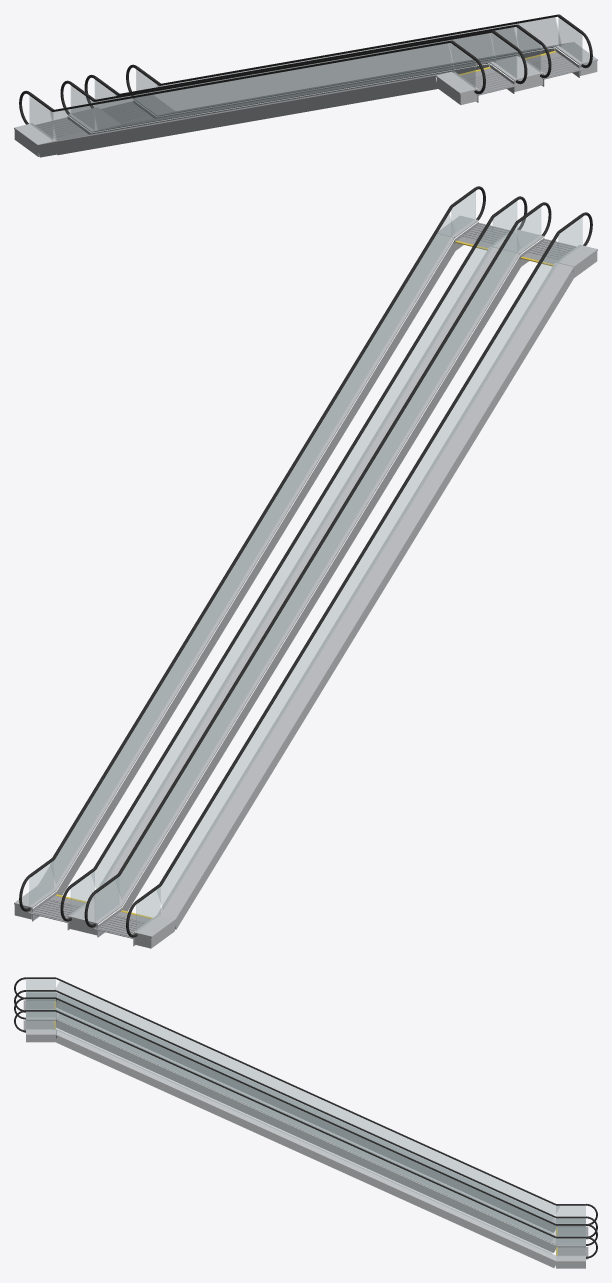
Rendered from escalator.gltf.
The picture shows the model from 3 angles, top to bottom: view 1: azimuth 30°, elevation 25°; view 2: azimuth 150°, elevation 25°; view 3: azimuth 270°, elevation 25°; orthographic projection. The views are drawn at different scales.
Parts seen in each view (by area): view 1: Glass, Deck, Rail, Skirt, Plate, Glow; view 2: Deck, Glass, Skirt, Rail, Plate, Glow; view 3: Glass, Deck, Skirt, Rail, Plate, Glow.
Part boxes in pixels (bbox=[...]): Glass: bbox=[29, 17, 582, 140]; Deck: bbox=[14, 42, 597, 157]; Rail: bbox=[19, 14, 592, 124]; Skirt: bbox=[57, 47, 579, 155]; Plate: bbox=[35, 52, 583, 140]; Glow: bbox=[67, 47, 578, 133]; Deck: bbox=[14, 215, 597, 948]; Glass: bbox=[29, 191, 582, 932]; Skirt: bbox=[32, 220, 553, 946]; Rail: bbox=[19, 186, 592, 937]; Plate: bbox=[28, 223, 576, 938]; Glow: bbox=[32, 221, 554, 932]; Glass: bbox=[26, 979, 585, 1255]; Deck: bbox=[26, 993, 585, 1268]; Skirt: bbox=[26, 999, 585, 1255]; Rail: bbox=[14, 977, 597, 1258]; Plate: bbox=[23, 1000, 588, 1259]; Glow: bbox=[26, 1018, 585, 1245].
Size of the model in its own units: 4 by 11.27 by 23.37.
